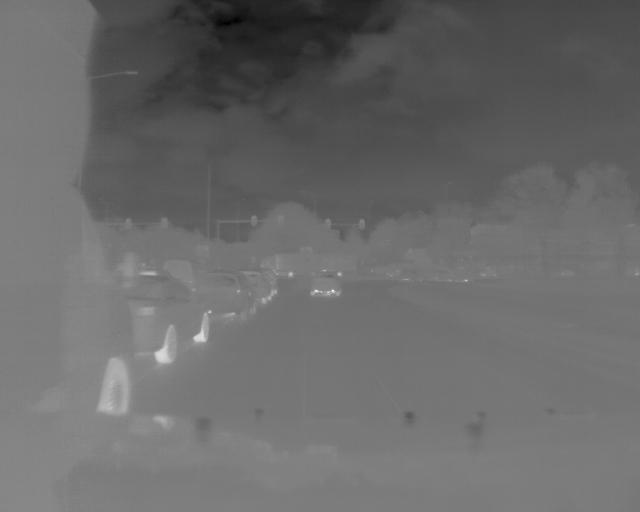car: (120, 264, 210, 363), (191, 267, 256, 322), (308, 267, 343, 296)
